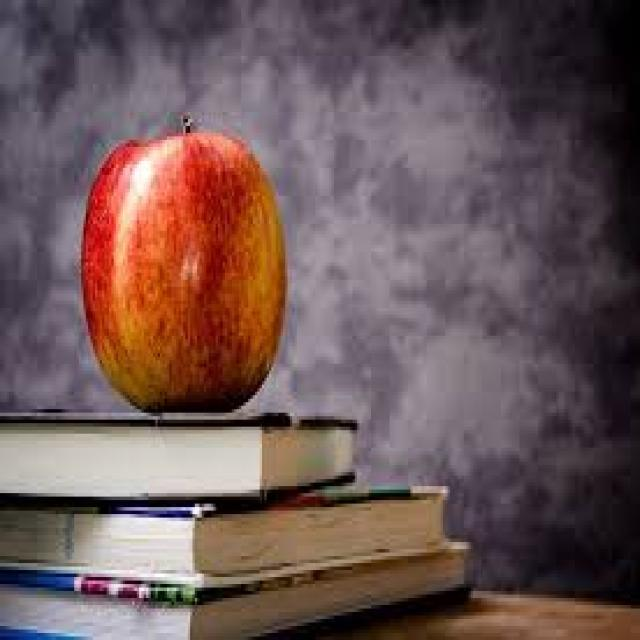Fresh Apple: (80, 136, 300, 412)
